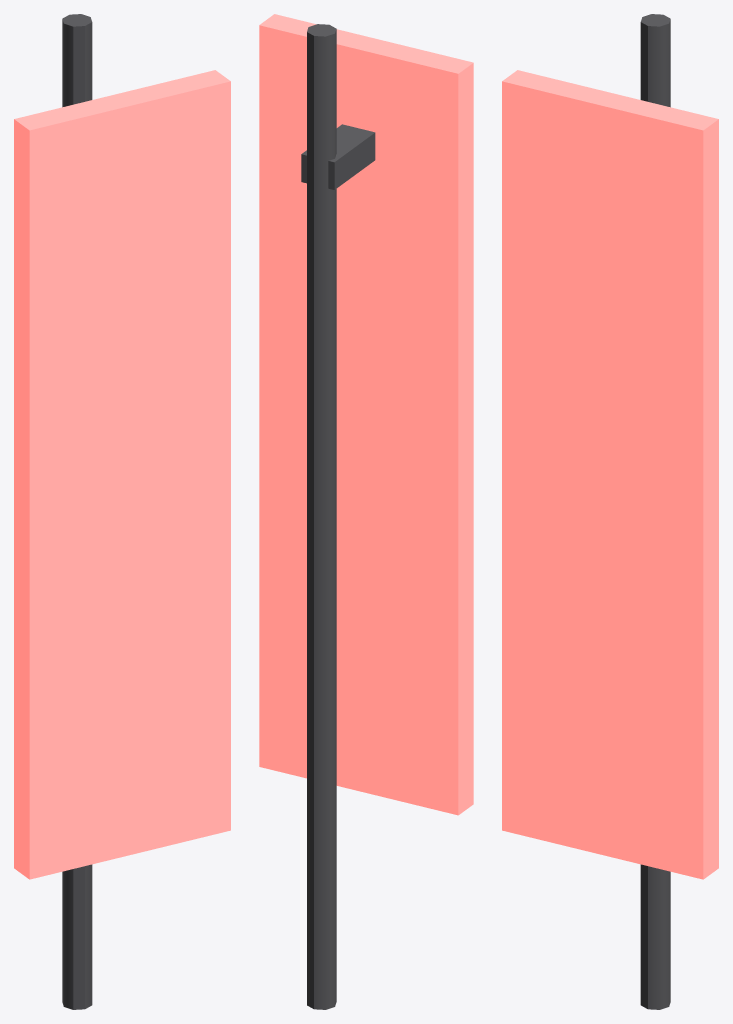
File: blade_sign.glb
The picture shows the model from 3 angles, left to right: view 1: azimuth 30°, elevation 25°; view 2: azimuth 150°, elevation 25°; view 3: azimuth 330°, elevation 25°; orthographic projection.
Visible parts, largest first — view 1: BladeSign.Panel, BladeSign.Pole; view 2: BladeSign.Panel, BladeSign.Pole; view 3: BladeSign.Panel, BladeSign.Pole.
Boxes of the visible parts, x1,y1,x2,y2 form: BladeSign.Panel: (14, 70, 230, 879); BladeSign.Pole: (62, 14, 92, 1009); BladeSign.Panel: (259, 14, 473, 815); BladeSign.Pole: (301, 24, 375, 1009); BladeSign.Panel: (502, 70, 718, 879); BladeSign.Pole: (640, 14, 670, 1009).
Size of the model in its own units: 0.9 by 4.2 by 0.47.
